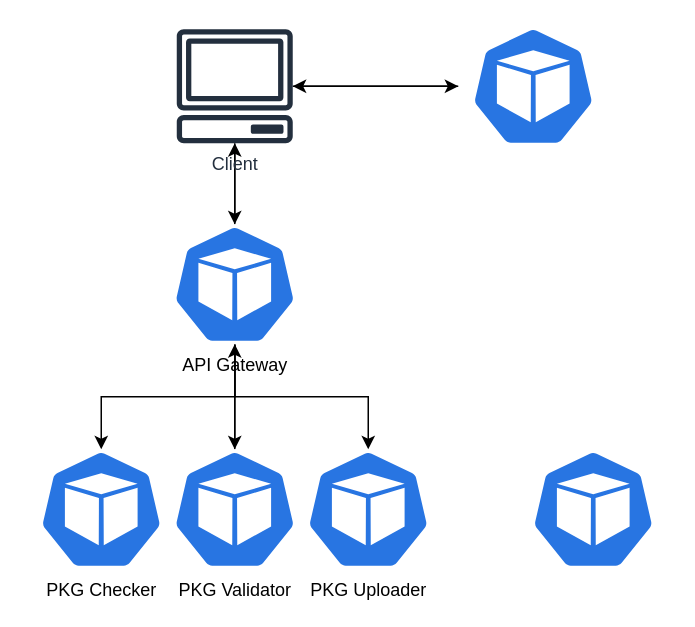
Image size: 695x627. Some labels were removed from this diagram. Here are the shapes that lost their labels. From the top down, the centre of each, then its label:
At pixel 532 85: "WebClient".
At pixel 592 508: "Storage Manager".
